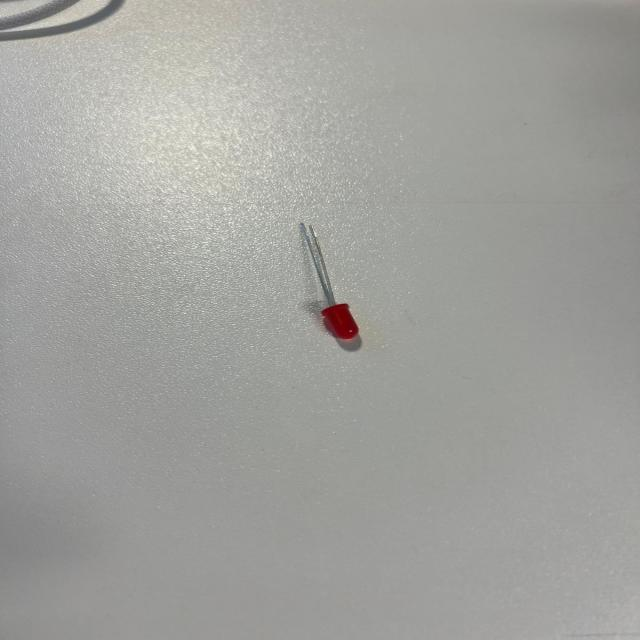REDLed: (249, 214, 387, 358)
